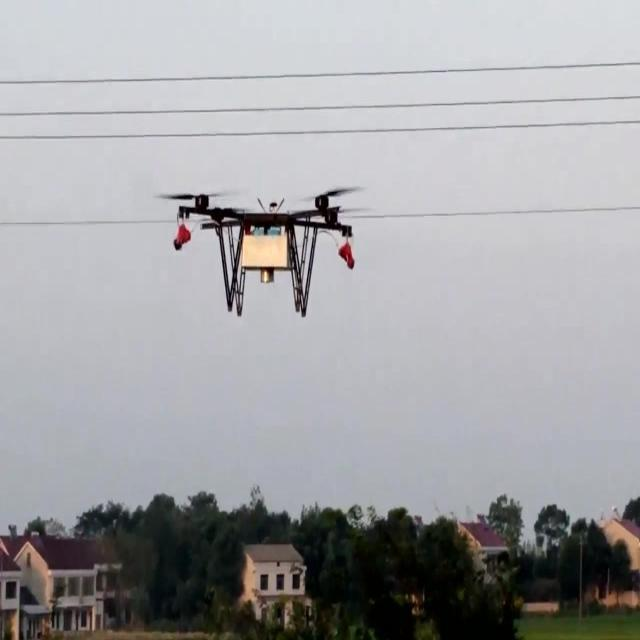drone: (154, 183, 370, 323)
